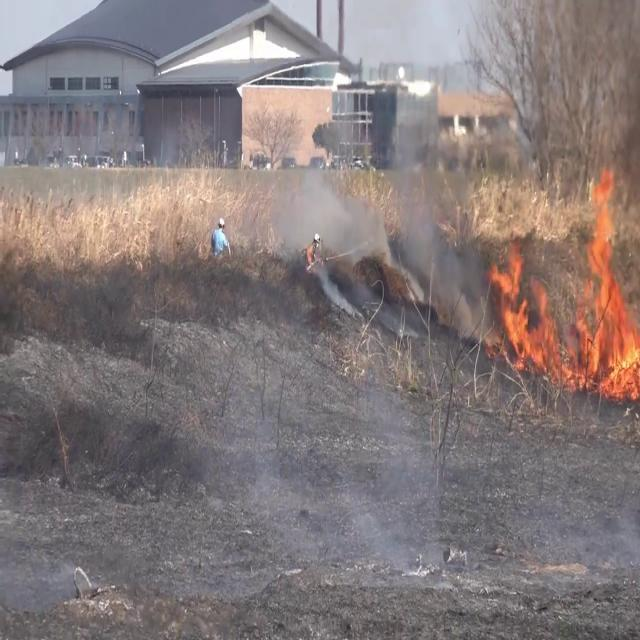Fire: (574, 168, 640, 398), (486, 241, 564, 381)
Smoke: (507, 6, 640, 190), (260, 141, 377, 267), (382, 108, 440, 284)
